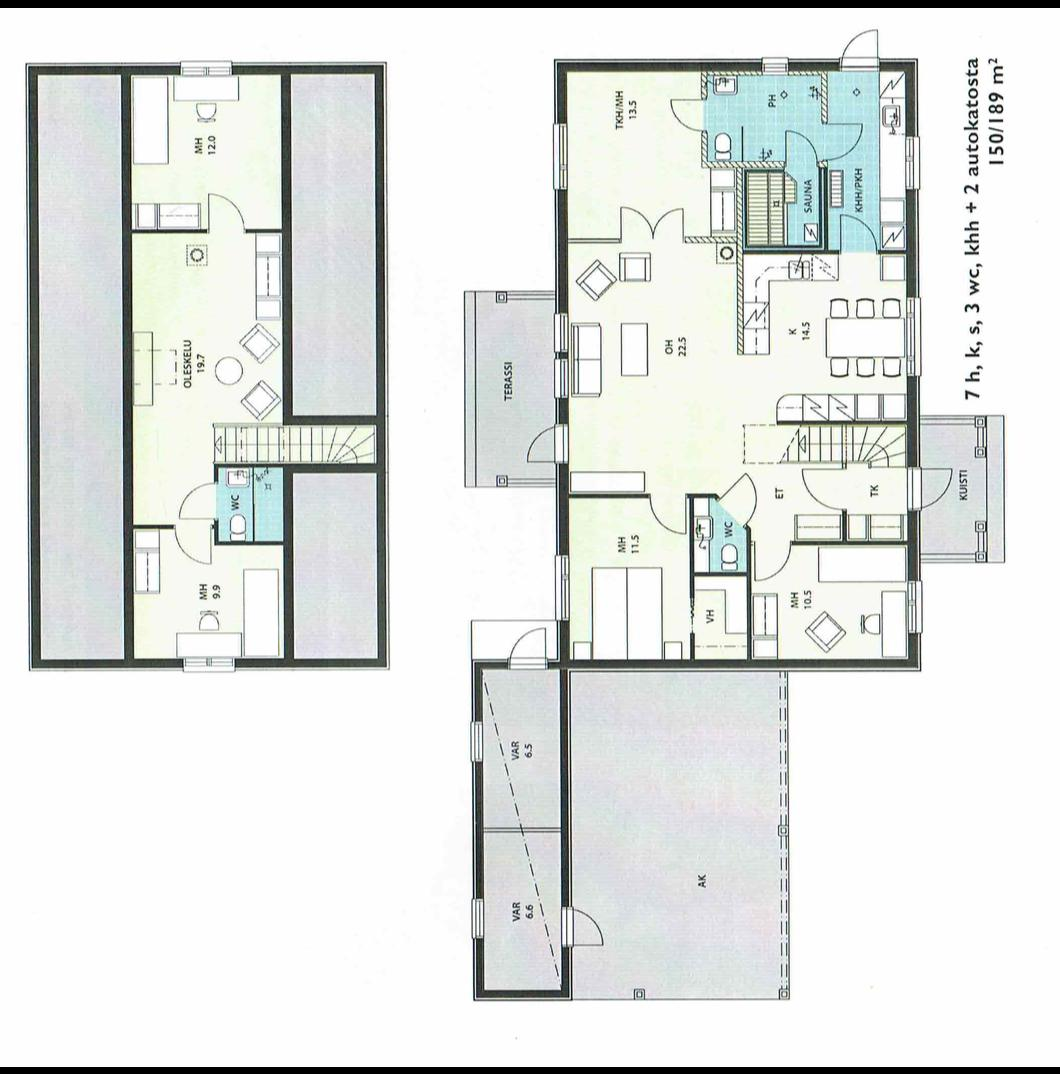bathroom: (703, 68, 787, 162), (688, 494, 756, 576), (218, 466, 284, 542)
door: (713, 468, 762, 532), (558, 894, 610, 948), (502, 621, 550, 679), (747, 530, 794, 584), (816, 114, 865, 165), (837, 26, 885, 76), (834, 208, 885, 255), (906, 462, 958, 508), (801, 464, 849, 513), (204, 188, 252, 236), (525, 419, 574, 464), (176, 479, 221, 525), (170, 520, 215, 566), (646, 490, 684, 542), (614, 201, 657, 246), (650, 200, 692, 242), (776, 129, 821, 168), (668, 91, 708, 132)
perimeter: (560, 58, 923, 668), (33, 60, 386, 666), (472, 660, 570, 1000)
window: (547, 114, 580, 197), (550, 548, 578, 630), (902, 123, 927, 198), (904, 288, 922, 384), (173, 52, 242, 77), (181, 649, 247, 674), (903, 568, 925, 642), (466, 885, 488, 946), (465, 716, 486, 772), (552, 301, 571, 359), (753, 50, 795, 74), (553, 352, 571, 401)
